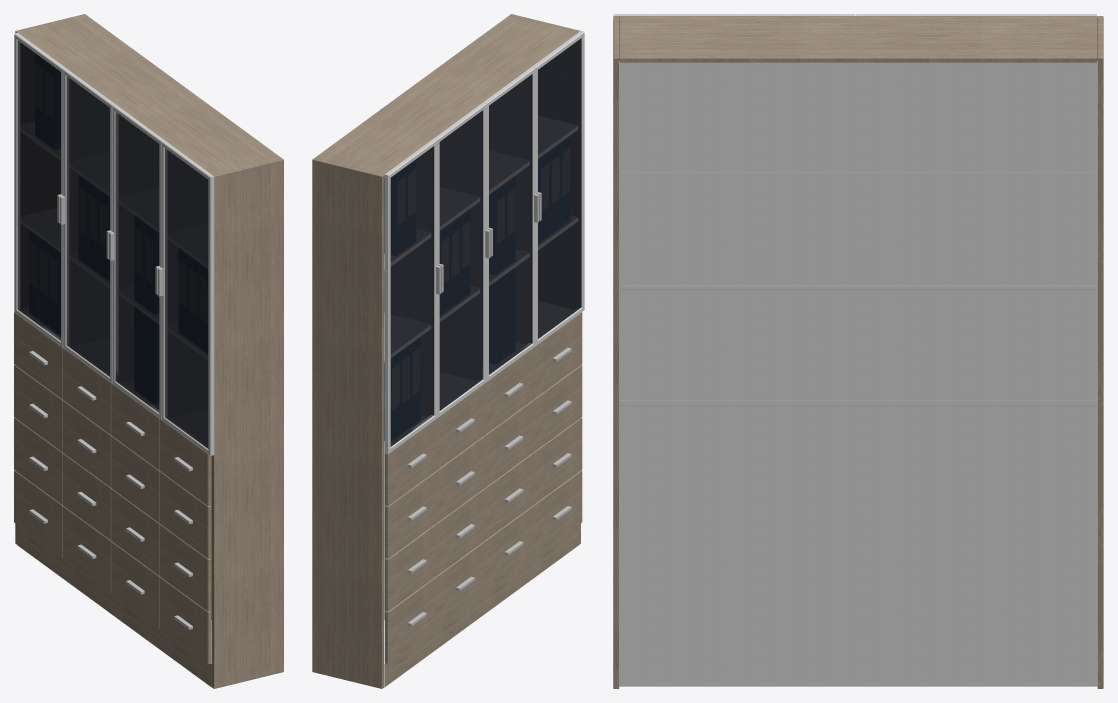
Rendered from SM_检查室_文件柜01.fbx.
The picture shows the model from 3 angles, left to right: view 1: azimuth 30°, elevation 25°; view 2: azimuth 150°, elevation 25°; view 3: azimuth 270°, elevation 25°; orthographic projection. The views are drawn at different scales.
Visible parts, largest first — view 1: SM_检查室_文件柜01; view 2: SM_检查室_文件柜01; view 3: SM_检查室_文件柜01.
Part boxes in pixels (x1,y1,x2,y2): SM_检查室_文件柜01: (14,14,283,688); SM_检查室_文件柜01: (312,14,584,688); SM_检查室_文件柜01: (613,14,1103,688).
Bounding box in the file's own units: 277 × 1748 × 1230.
